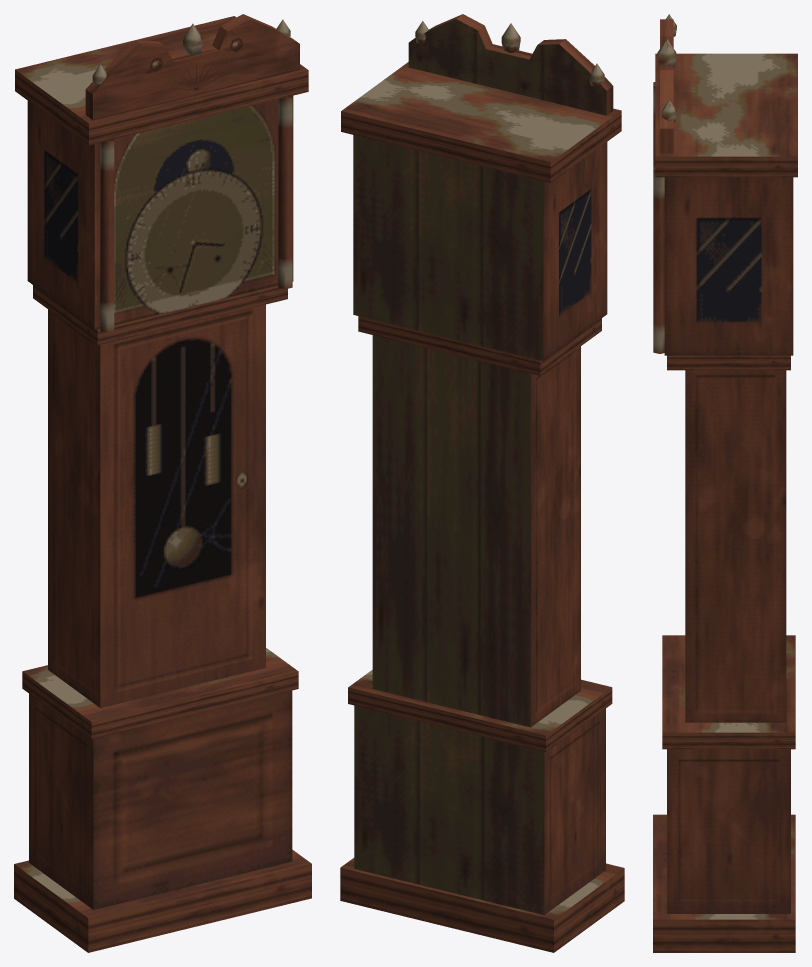
Rendered from grandfather_clock.obj.
The picture shows the model from 3 angles, left to right: view 1: azimuth 30°, elevation 25°; view 2: azimuth 150°, elevation 25°; view 3: azimuth 270°, elevation 25°; orthographic projection. The views are drawn at different scales.
Visible parts, largest first — view 1: grandfather_clock; view 2: grandfather_clock; view 3: grandfather_clock.
Boxes of the visible parts, x1=… form: grandfather_clock: x1=14, y1=14, x2=311, y2=952; grandfather_clock: x1=340, y1=14, x2=624, y2=952; grandfather_clock: x1=653, y1=14, x2=797, y2=952.
Size of the model in its own units: 0.54 by 2.07 by 0.315.
1 material, 1 textured.
